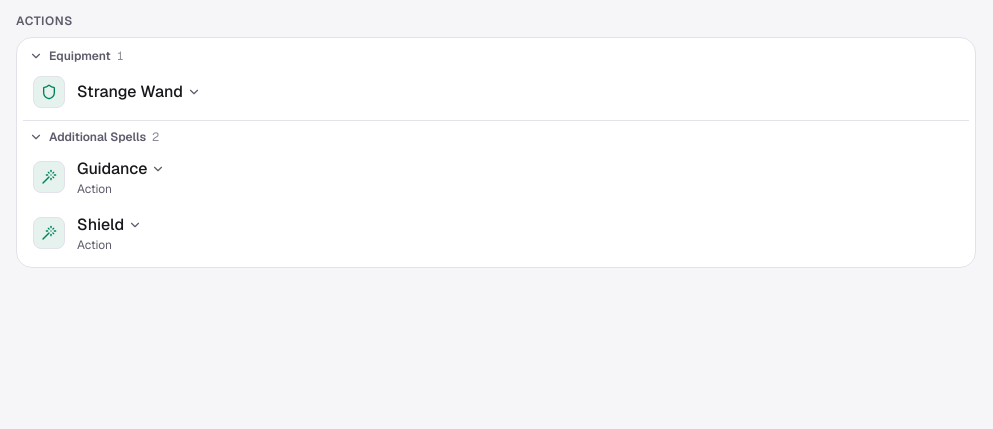
Scenario: components/character-sheet/actions-tab › names a spell's level and concentration, and an unidentified item's secret
Step 1. Click the button "Guidance Action" → (49, 177), box x1=27 y1=155 x2=955 y2=199
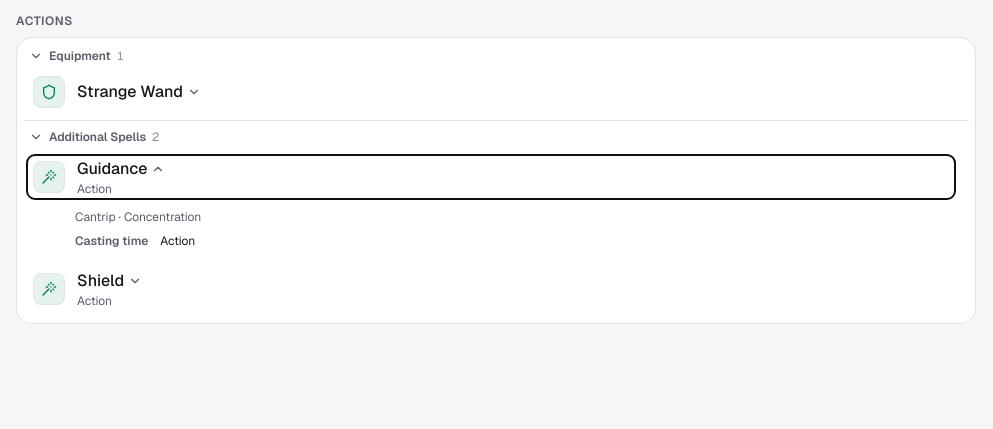
Step 2. Click the button "Shield Action" → (49, 289), box x1=27 y1=267 x2=955 y2=311
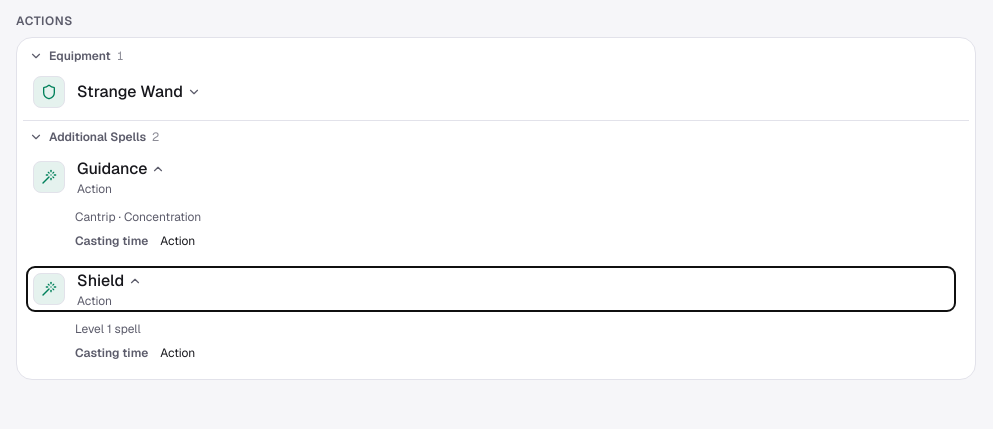
Step 3. Click the button "Strange Wand" → (49, 92), box x1=27 y1=74 x2=955 y2=110
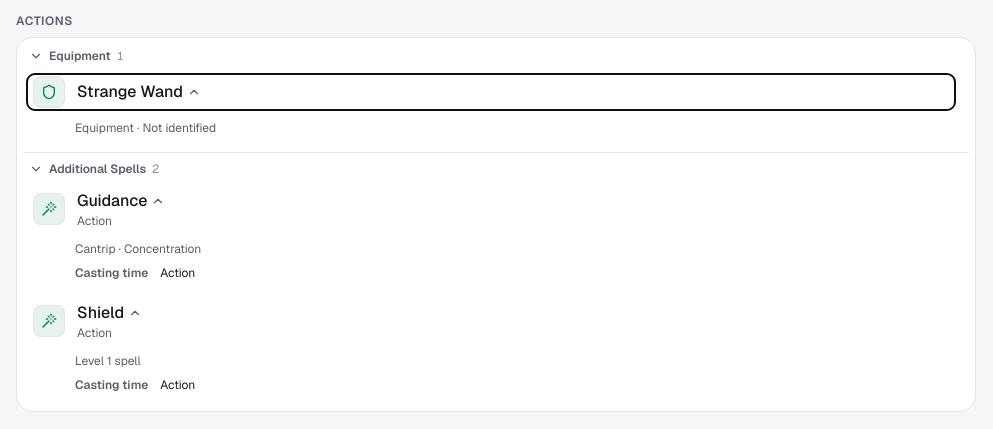
Expected: the text "Cantrip · Concentration" is shown, x1=75 y1=241 x2=201 y2=257
Expected: the text "Level 1 spell" is shown, x1=75 y1=353 x2=141 y2=369
Expected: the text "Equipment · Not identified" is shown, x1=75 y1=120 x2=216 y2=136
